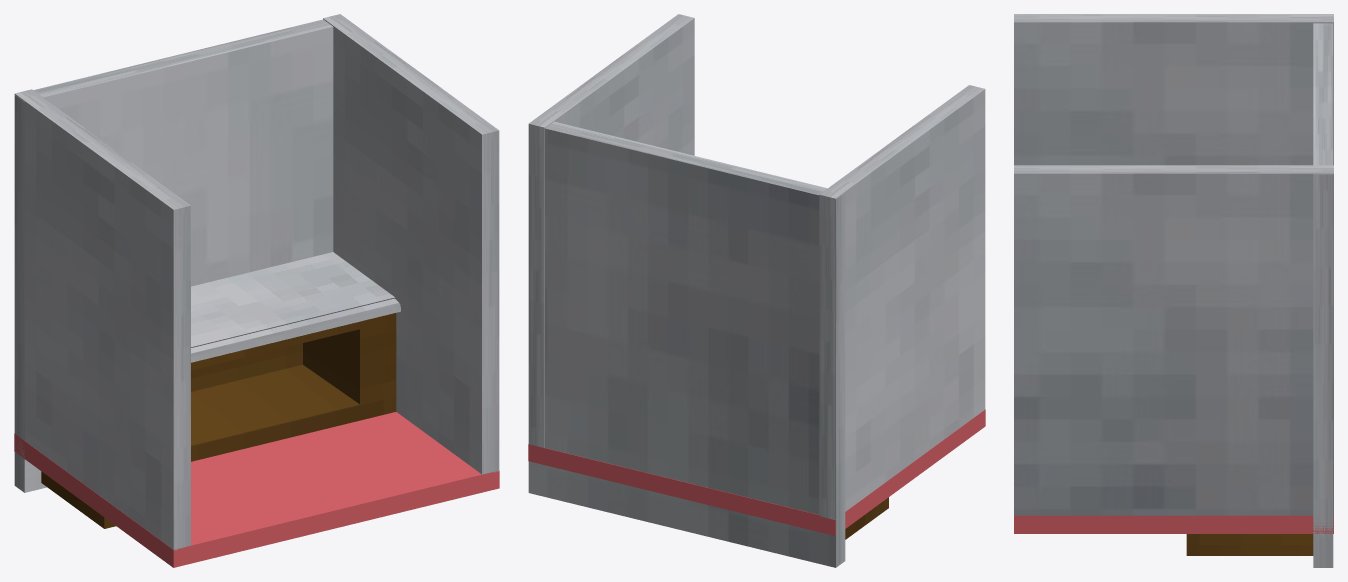
File: countertop.glb
3 renders of one model, left to right at view 1: azimuth 30°, elevation 25°; view 2: azimuth 150°, elevation 25°; view 3: azimuth 270°, elevation 25°, orthographic. The views are drawn at different scales.
Parts seen in each view (by area): view 1: L-Wall, R-Wall, B-Wall, Floor, Countertop, Countertop.001; view 2: B-Wall, L-Wall, R-Wall, Floor; view 3: R-Wall, L-Wall, B-Wall, Floor, Countertop.
Part boxes in pixels (<box>): L-Wall: <box>14,89,190,550</box>; R-Wall: <box>323,14,499,474</box>; B-Wall: <box>14,19,333,492</box>; Floor: <box>14,412,499,567</box>; Countertop: <box>41,313,396,528</box>; Countertop.001: <box>191,252,400,362</box>; B-Wall: <box>528,121,845,567</box>; L-Wall: <box>819,85,985,520</box>; R-Wall: <box>528,14,694,448</box>; Floor: <box>528,409,985,535</box>; R-Wall: <box>1014,165,1333,515</box>; L-Wall: <box>1014,14,1333,165</box>; B-Wall: <box>1313,23,1333,567</box>; Floor: <box>1014,515,1333,533</box>; Countertop: <box>1186,534,1313,555</box>.
Bounding box in the file's own units: 9.77 × 11.23 × 8.26.
Materials: 4 (3 with a texture image).
